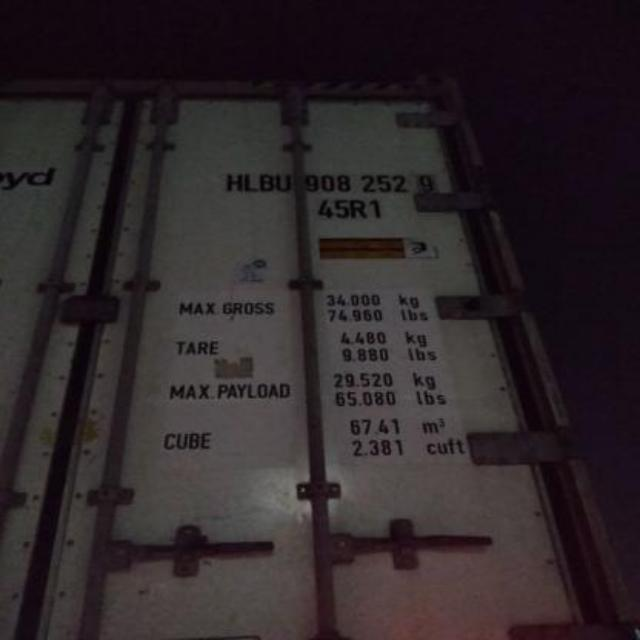0: (319, 171, 337, 195)
2: (358, 170, 376, 193), (390, 168, 404, 196)
5: (376, 171, 390, 197)
8: (334, 170, 350, 192)
9: (414, 169, 442, 199), (302, 170, 320, 194)
B: (262, 170, 274, 194)
H: (225, 170, 241, 194)
L: (243, 170, 261, 193)
U: (275, 166, 293, 198)
